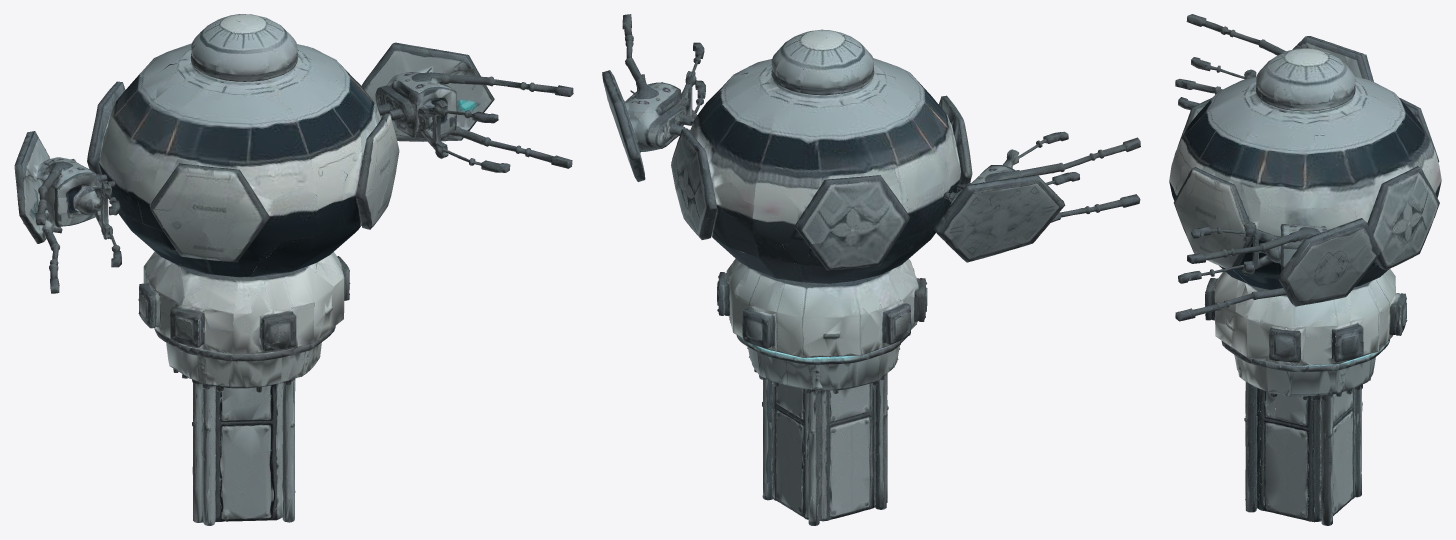
The model's file is scan.glb.
3 views of the same model, side by side, from view 1: azimuth 30°, elevation 25°; view 2: azimuth 150°, elevation 25°; view 3: azimuth 270°, elevation 25° (orthographic). The views are drawn at different scales.
Parts seen in each view (by area): view 1: Mesh_0; view 2: Mesh_0; view 3: Mesh_0.
Part boxes in pixels (left/top/right/bottom): Mesh_0: left=14, top=14, right=573, bottom=525; Mesh_0: left=602, top=14, right=1140, bottom=525; Mesh_0: left=1169, top=14, right=1441, bottom=525.
Size of the model in its own units: 1.9 by 1.63 by 0.897.
1 material, 1 textured.
